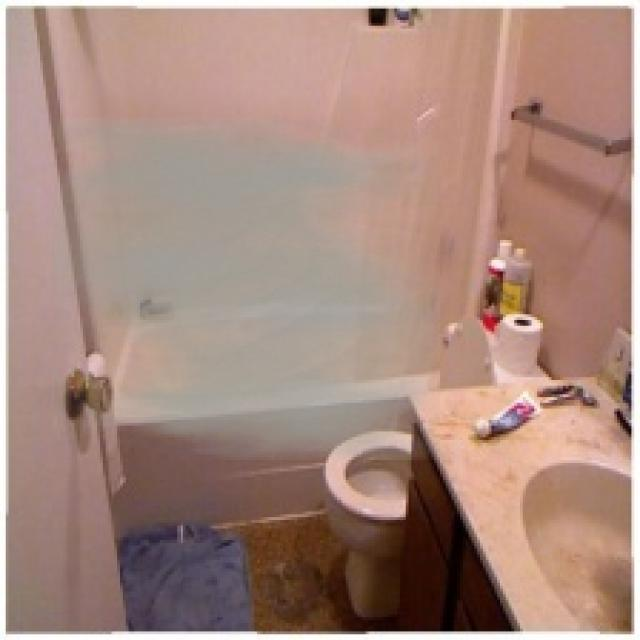Smoke: (51, 117, 440, 460)
